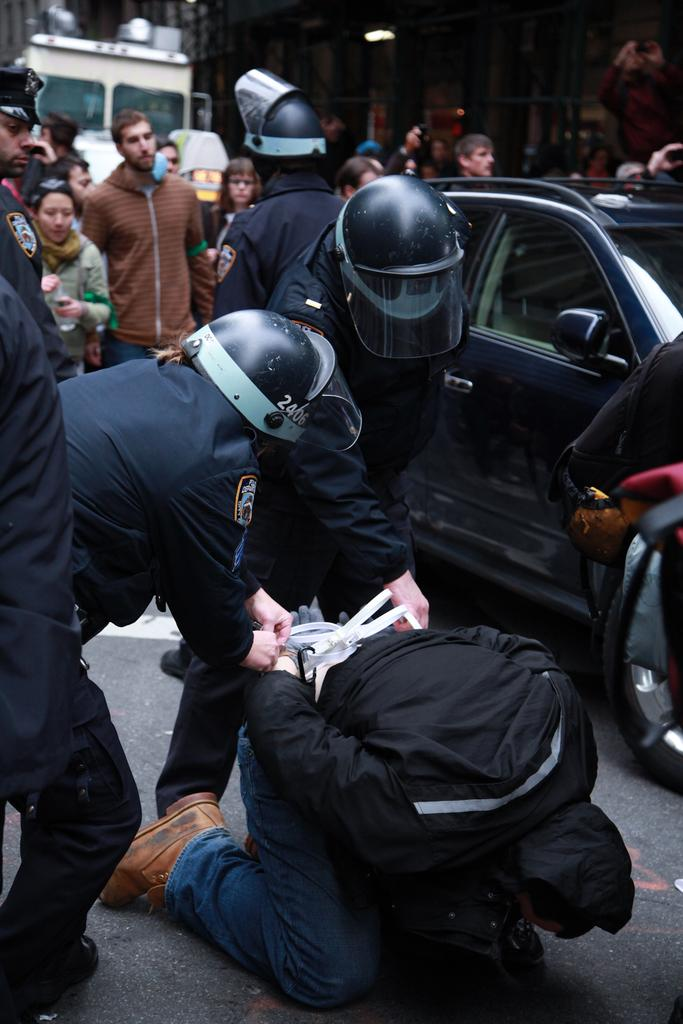helmet: (181, 309, 362, 464), (334, 174, 466, 359), (233, 67, 327, 173)
nohelmet: (110, 107, 159, 176), (30, 177, 77, 248), (453, 132, 497, 182), (221, 156, 260, 208)
